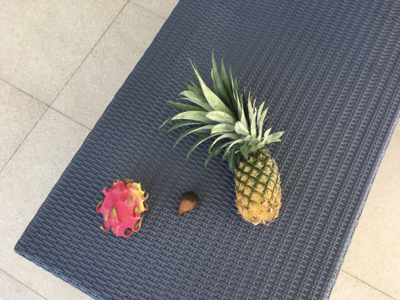dragon fruit: (97, 180, 149, 238)
pineapple: (158, 51, 284, 226)
snake fruit: (177, 192, 200, 217)
